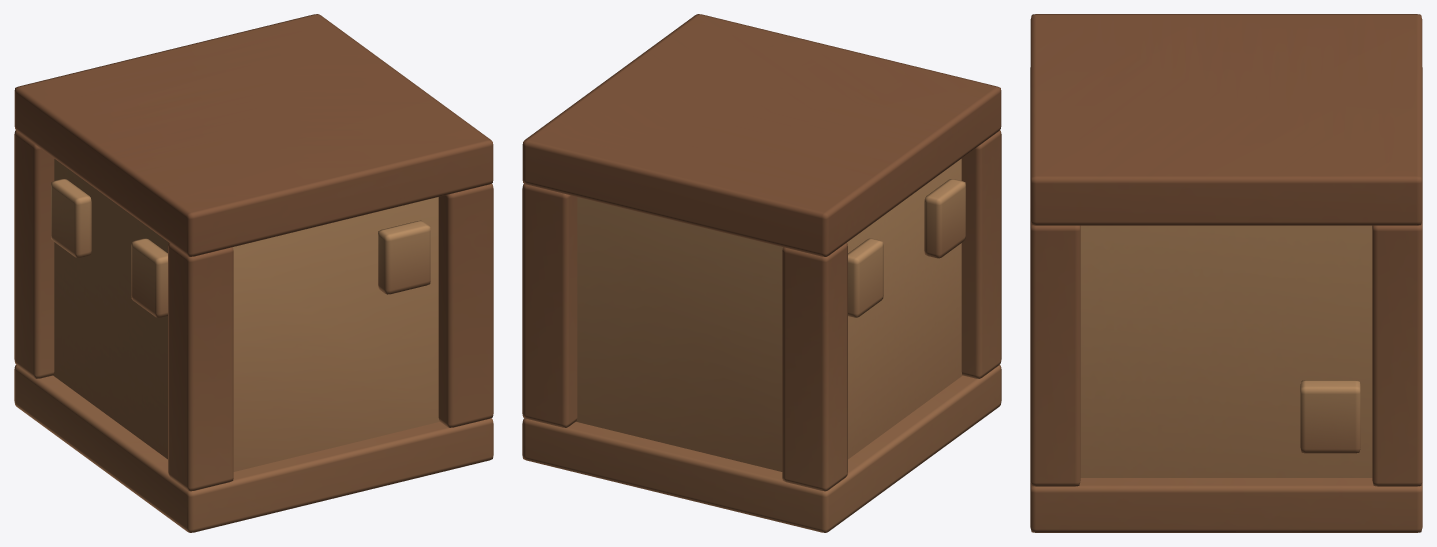
File: SM_Clay_Body_01.fbx
3 renders of one model, left to right at view 1: azimuth 30°, elevation 25°; view 2: azimuth 150°, elevation 25°; view 3: azimuth 270°, elevation 25°, orthographic. The views are drawn at different scales.
Parts seen in each view (by area): view 1: SM_Clay_Body_01; view 2: SM_Clay_Body_01; view 3: SM_Clay_Body_01.
Boxes of the visible parts, x1,y1,x2,y2 form: SM_Clay_Body_01: (14, 14, 493, 532); SM_Clay_Body_01: (522, 14, 1001, 532); SM_Clay_Body_01: (1030, 14, 1422, 532).
Size of the model in its own units: 0.9958 by 0.9958 by 0.9958.
1 material, 1 textured.
